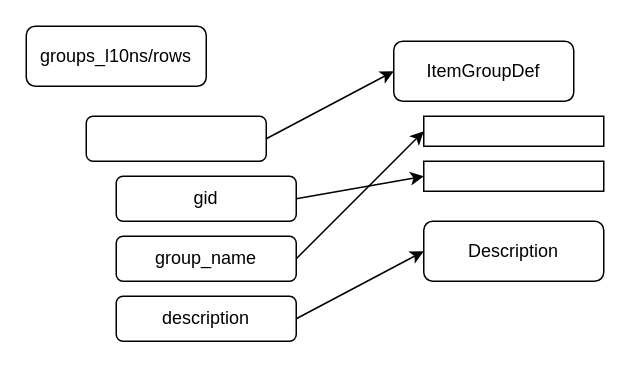
The diagram is 630 pixels wide and 368 high, and some of its shapes have lost their labels. The centre of each missing label's shape, as x and y in pixels:
Name: (513,130)
OID: (513,175)
row: (175,138)
